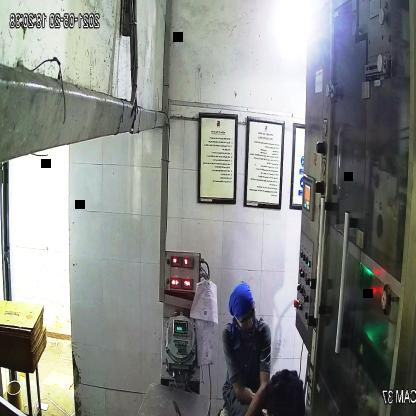goggles: (233, 304, 258, 330)
